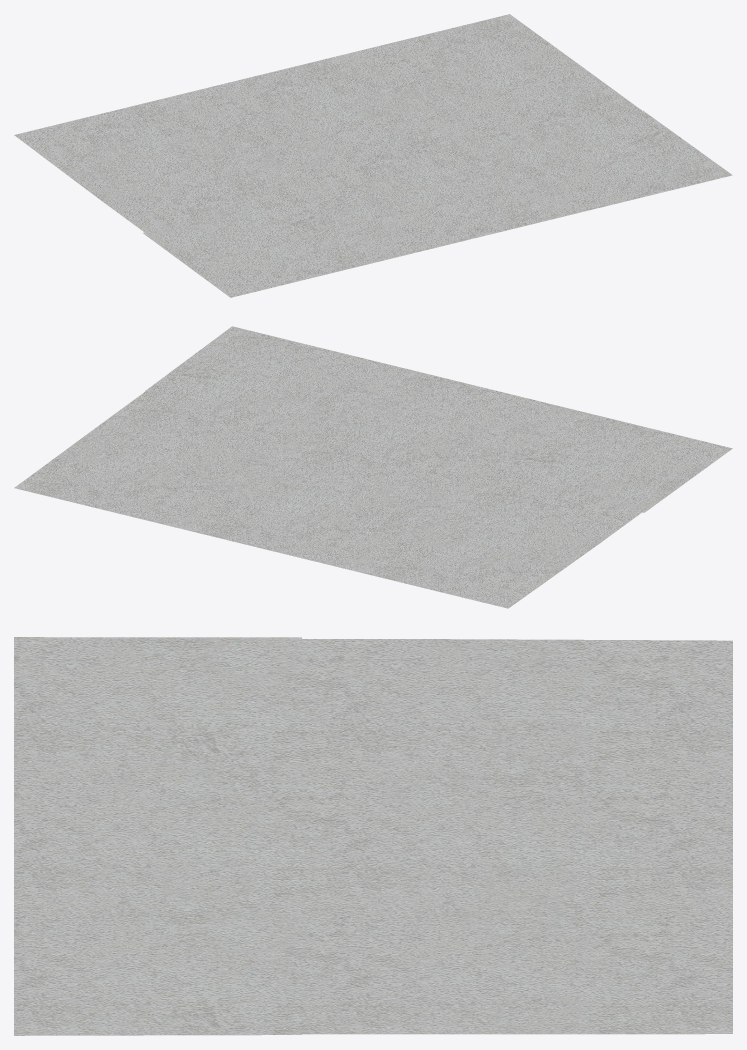
File: Roof 1.fbx
3 renders of one model, top to bottom at view 1: azimuth 30°, elevation 25°; view 2: azimuth 150°, elevation 25°; view 3: azimuth 270°, elevation 25°, orthographic. The views are drawn at different scales.
Visible parts, largest first — view 1: Material2; view 2: Material2; view 3: Material2.
Part boxes in pixels (x1,y1,x2,y2): Material2: [14, 14, 732, 297]; Material2: [14, 326, 732, 608]; Material2: [14, 637, 732, 1035].
Bounding box in the file's own units: 1586 × 0.000471 × 1209.
1 material, 1 textured.
